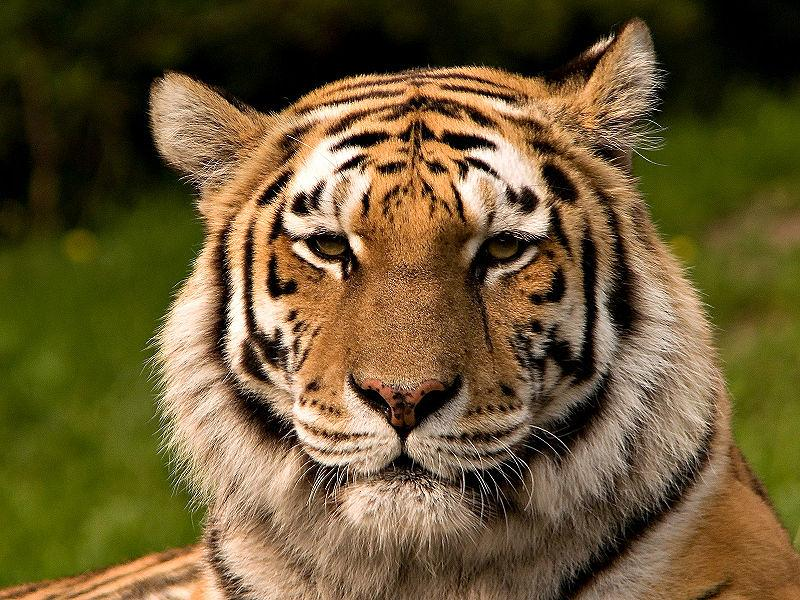tiger: (142, 17, 799, 599)
